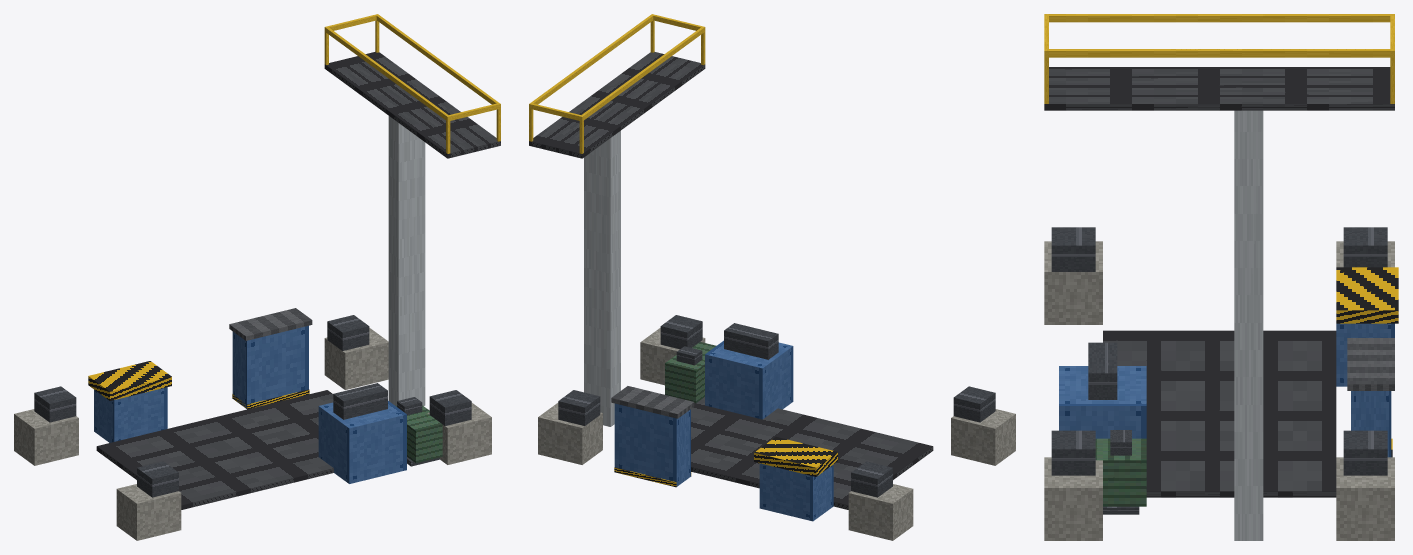
File: car_dumper.obj
3 views of the same model, side by side, from view 1: azimuth 30°, elevation 25°; view 2: azimuth 150°, elevation 25°; view 3: azimuth 270°, elevation 25° (orthographic). The views are drawn at different scales.
Visible parts, largest first — view 1: pit_grate, stair, catwalk, gearbox, cabinet, out_chute, ped_l_b, ped_l_f, ped_r_f, ped_r_b, out_lip, motor (+8 smaller); view 2: pit_grate, stair, catwalk, gearbox, cabinet, out_chute, ped_l_f, ped_l_b, ped_r_f, out_lip, motor, cab_roof (+8 smaller); view 3: pit_grate, catwalk, stair, gearbox, ped_r_f, ped_r_b, ped_l_b, out_lip, rail_l, rail_r, motor, cab_roof (+9 smaller).
Part boxes in pixels (box(x1,y1,x2,y2)): pit_grate: box(96, 390, 333, 509); stair: box(388, 116, 425, 405); catwalk: box(324, 52, 500, 158); gearbox: box(318, 401, 406, 483); cabinet: box(232, 325, 308, 408); out_chute: box(94, 387, 167, 442); ped_l_b: box(116, 484, 181, 540); ped_l_f: box(14, 409, 78, 465); ped_r_f: box(324, 327, 388, 389); ped_r_b: box(427, 402, 491, 464); out_lip: box(88, 361, 171, 400); motor: box(395, 405, 442, 463); pit_grate: box(691, 397, 933, 509); stair: box(584, 131, 620, 426); catwalk: box(529, 52, 705, 158); gearbox: box(705, 340, 793, 419); cabinet: box(614, 403, 690, 486); out_chute: box(759, 463, 833, 521); ped_l_f: box(848, 484, 913, 540); ped_l_b: box(951, 409, 1015, 465); ped_r_f: box(538, 402, 602, 464); out_lip: box(754, 437, 837, 476); motor: box(665, 342, 716, 403); cab_roof: box(611, 386, 694, 418); pit_grate: box(1103, 330, 1336, 497); catwalk: box(1044, 67, 1394, 110); stair: box(1234, 110, 1263, 540); gearbox: box(1059, 366, 1146, 438); ped_r_f: box(1336, 457, 1394, 540); ped_r_b: box(1044, 457, 1102, 540); ped_l_b: box(1044, 241, 1102, 324); out_lip: box(1336, 267, 1398, 323); rail_l: box(1044, 49, 1394, 57); rail_r: box(1044, 14, 1394, 22); motor: box(1095, 438, 1146, 506); cab_roof: box(1347, 338, 1394, 390).
Bounding box in the file's own units: 5.12 × 4.69 × 3.03.
